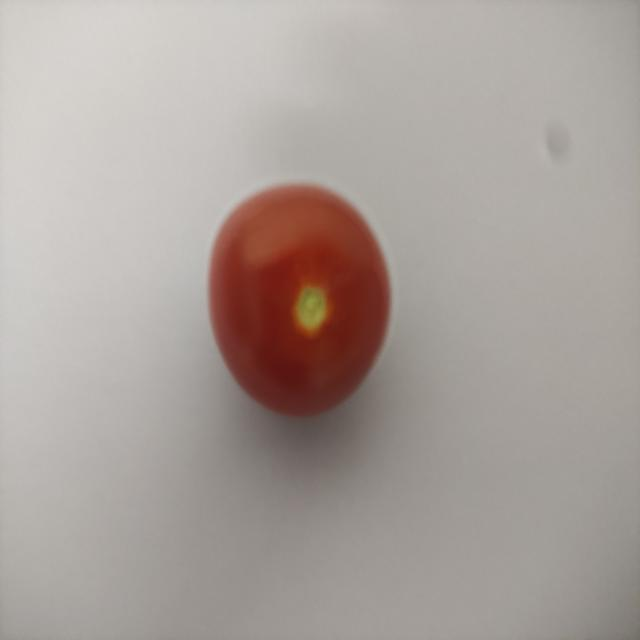kirmizi: (200, 172, 406, 444)
